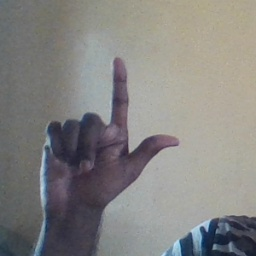L: (36, 55, 183, 213)
